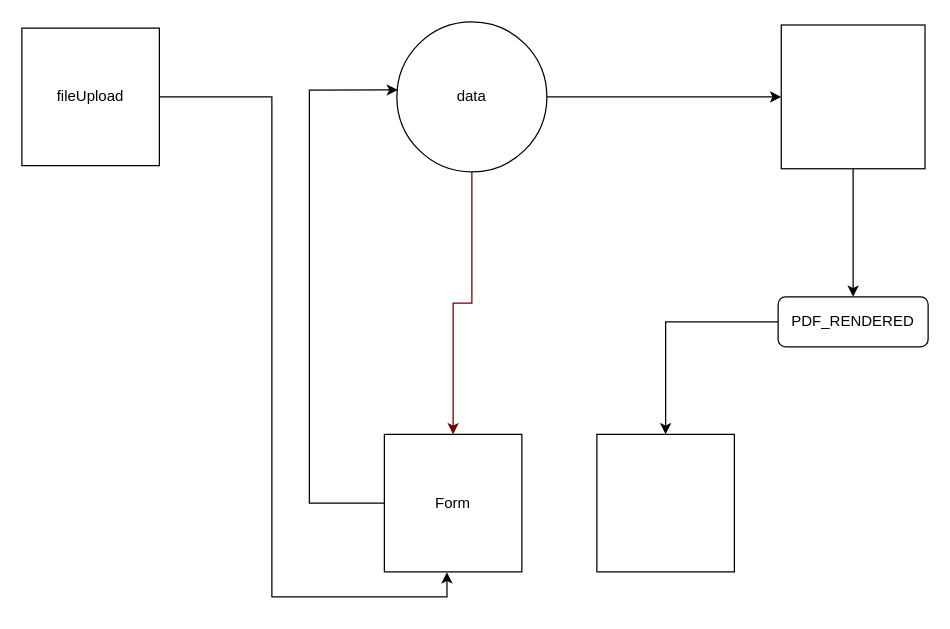
Image size: 950x629. Some labels were removed from this diagram. Each missing label, with the box of its shape:
PDF: (596, 433, 734, 572)
PDF_GENERATOR: (780, 24, 925, 169)
